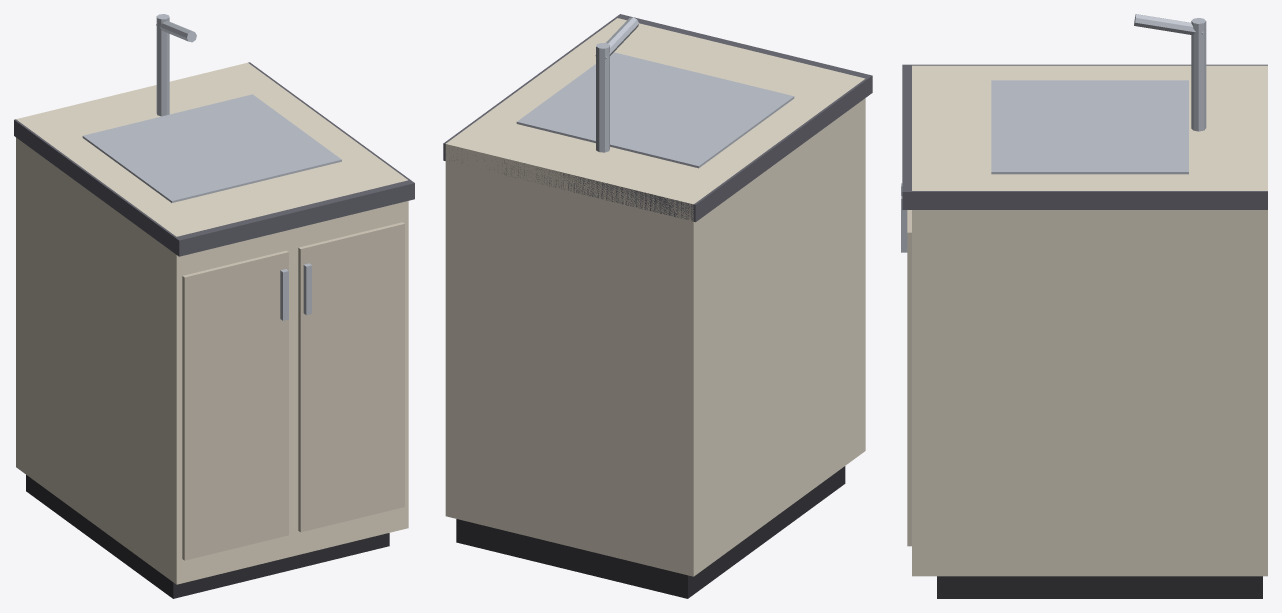
The model's file is counter_sink.fbx.
3 views of the same model, side by side, from view 1: azimuth 30°, elevation 25°; view 2: azimuth 150°, elevation 25°; view 3: azimuth 270°, elevation 25° (orthographic). The views are drawn at different scales.
Parts seen in each view (by area): view 1: counter_sink; view 2: counter_sink; view 3: counter_sink.
Part boxes in pixels (x1,y1,x2,y2): counter_sink: (14, 14, 414, 598); counter_sink: (443, 14, 872, 598); counter_sink: (901, 14, 1267, 598).
Size of the model in its own units: 0.61 by 1.17 by 0.7425.
